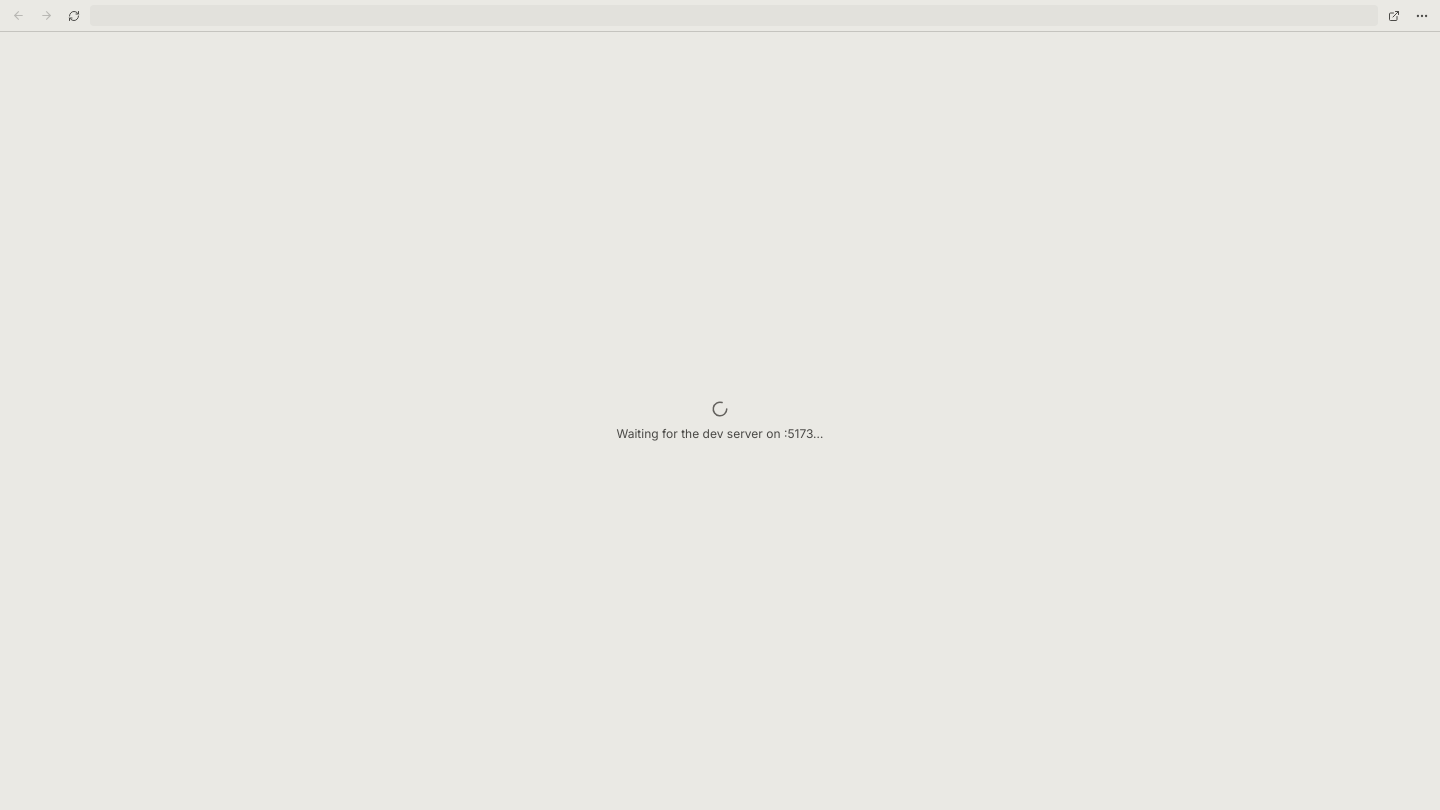
Test case: WorkspacePreview › shows a waiting state while its port is not forwarded, with nothing to stop
Expected: the text "Waiting for the dev server on :5173…" is shown, [616,426,824,442]
Click the button named "Preview menu" at [1422, 16], box [1410,4,1434,28]
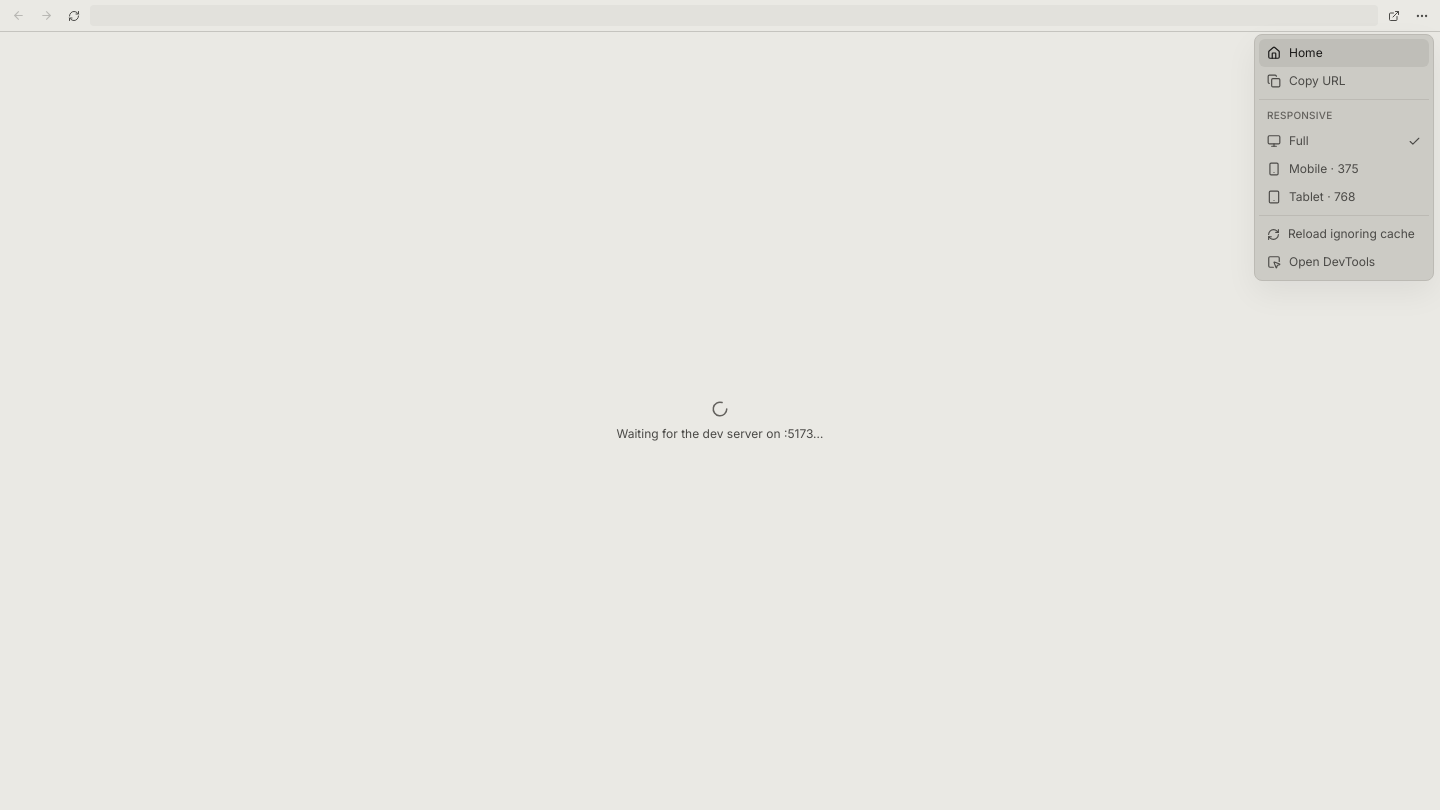
Expected: the menu item "Home" is shown, [1259,39,1429,67]
